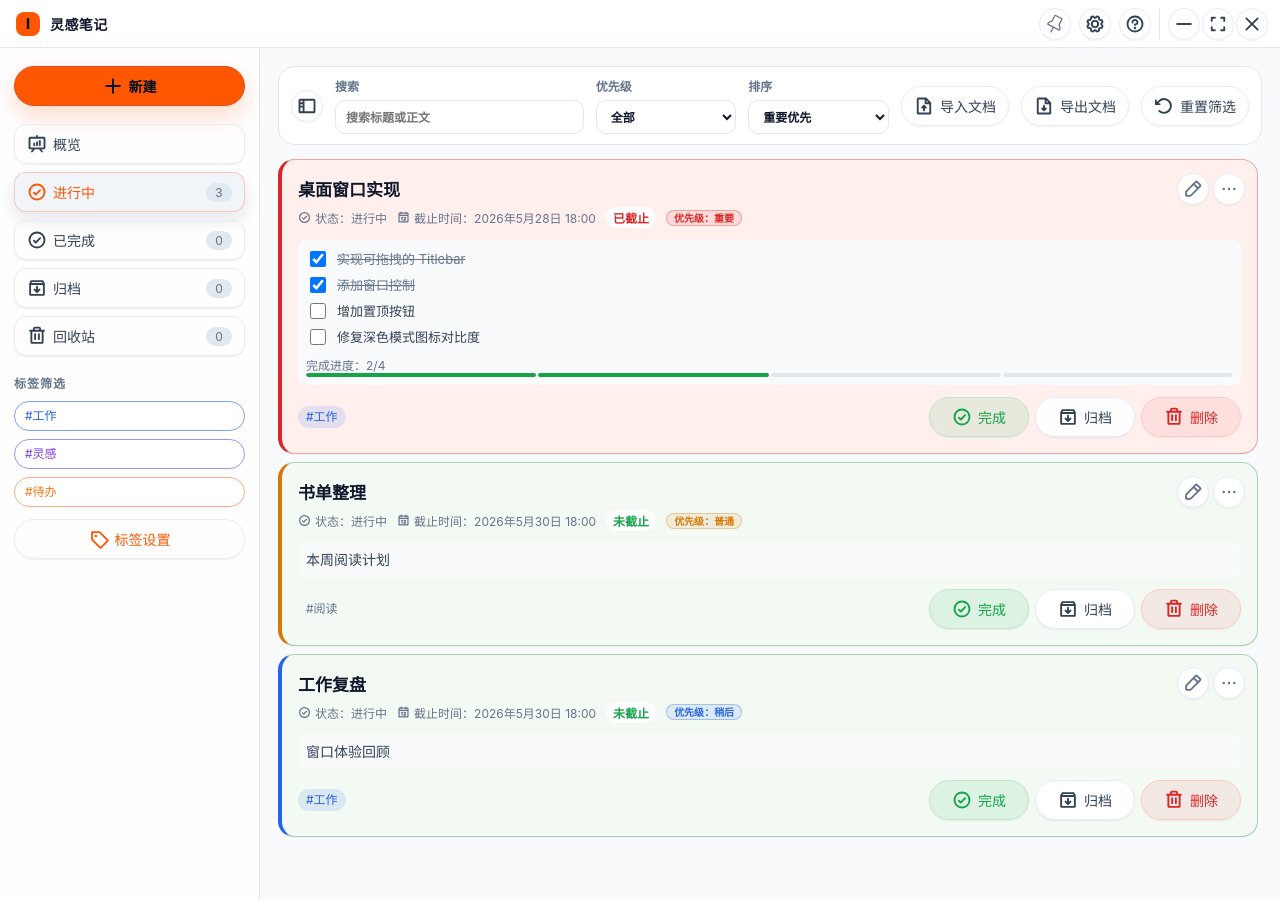
Test: App search query › 搜索框支持标签、优先级和截止状态语法并兼容标签名普通搜索
Step 1. Type "窗口 tag:工作 priority:high due:overdue" into the search field labelled "搜索" → x=459, y=117, box x1=335 y1=100 x2=584 y2=134
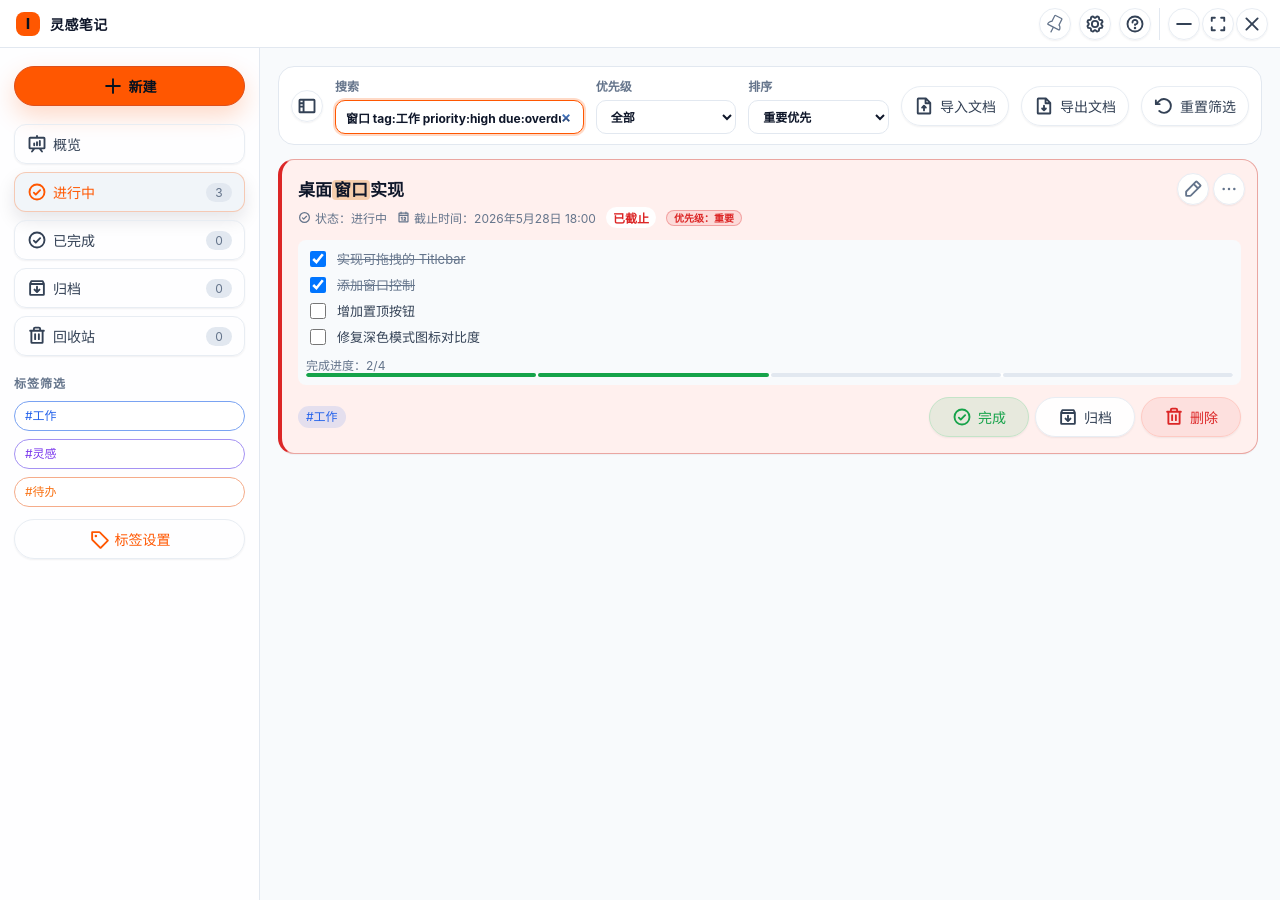
Now the button "书单整理" is gone
Now the button "工作复盘" is gone
Step 2. Replace the text in the search field labelled "搜索" with "阅读" → x=459, y=117, box x1=335 y1=100 x2=584 y2=134
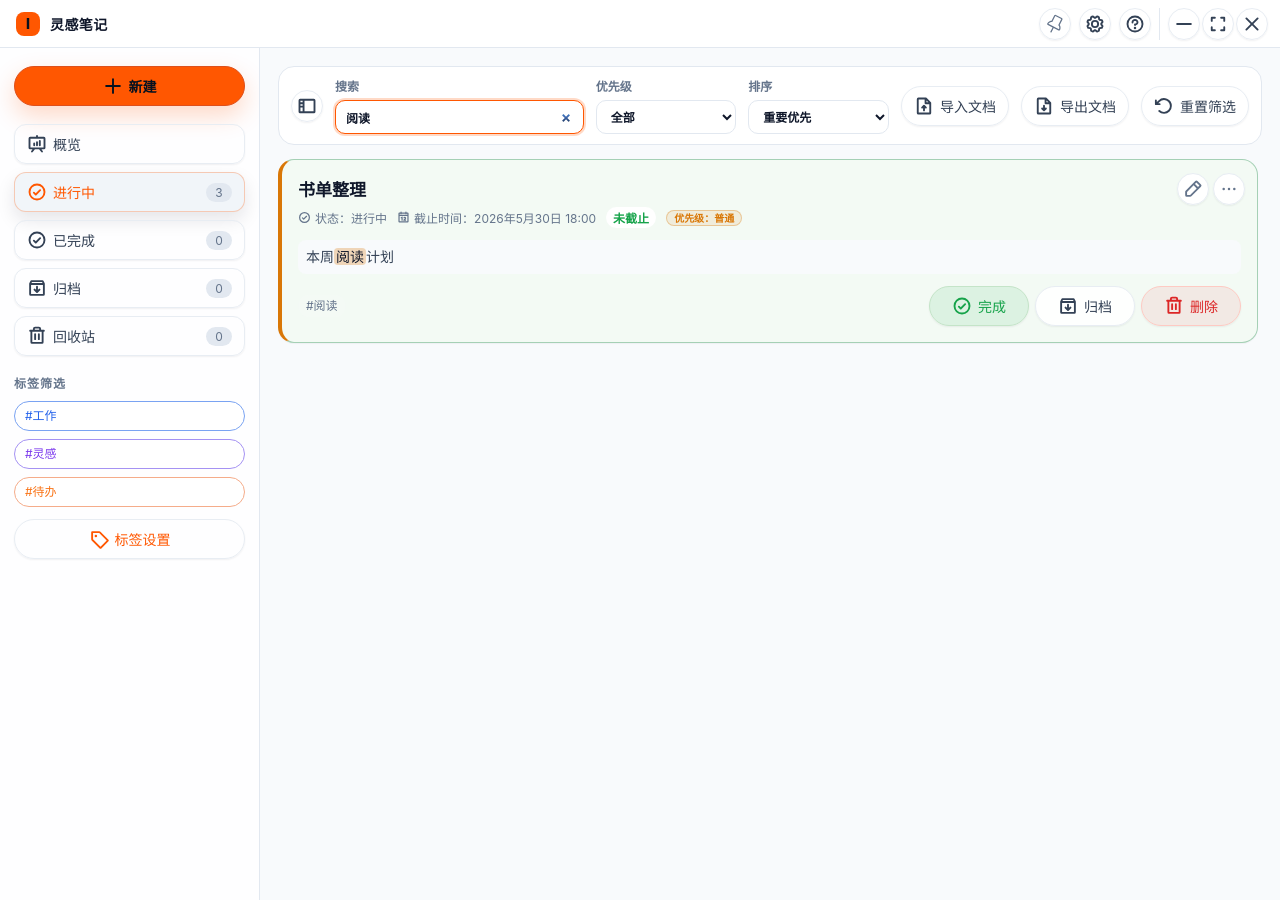
Now the button "书单整理" is shown, box x1=298 y1=176 x2=1181 y2=201
Now the button "桌面窗口实现" is gone
